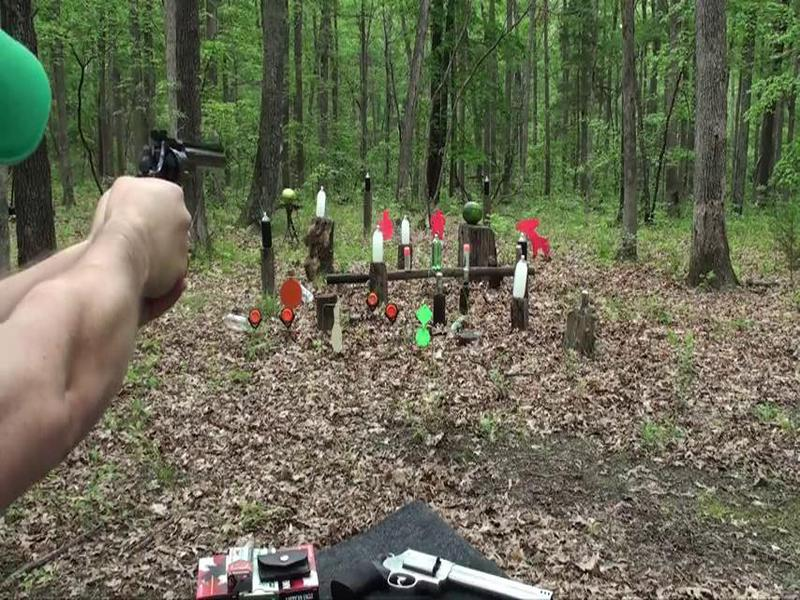Revolver: (109, 126, 250, 215)
